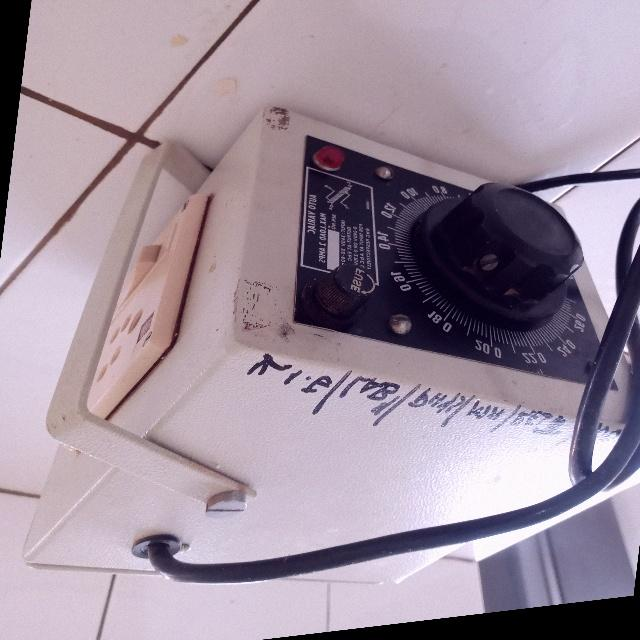Auto Variac AC Transformer 0-280 V: (14, 62, 640, 634)
